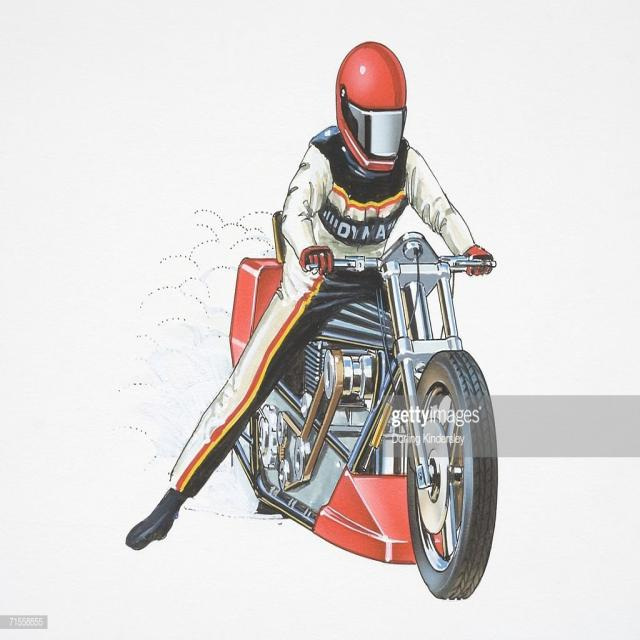helmet: (330, 42, 409, 168)
